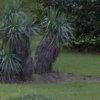Palm tree: (2, 7, 68, 71)
